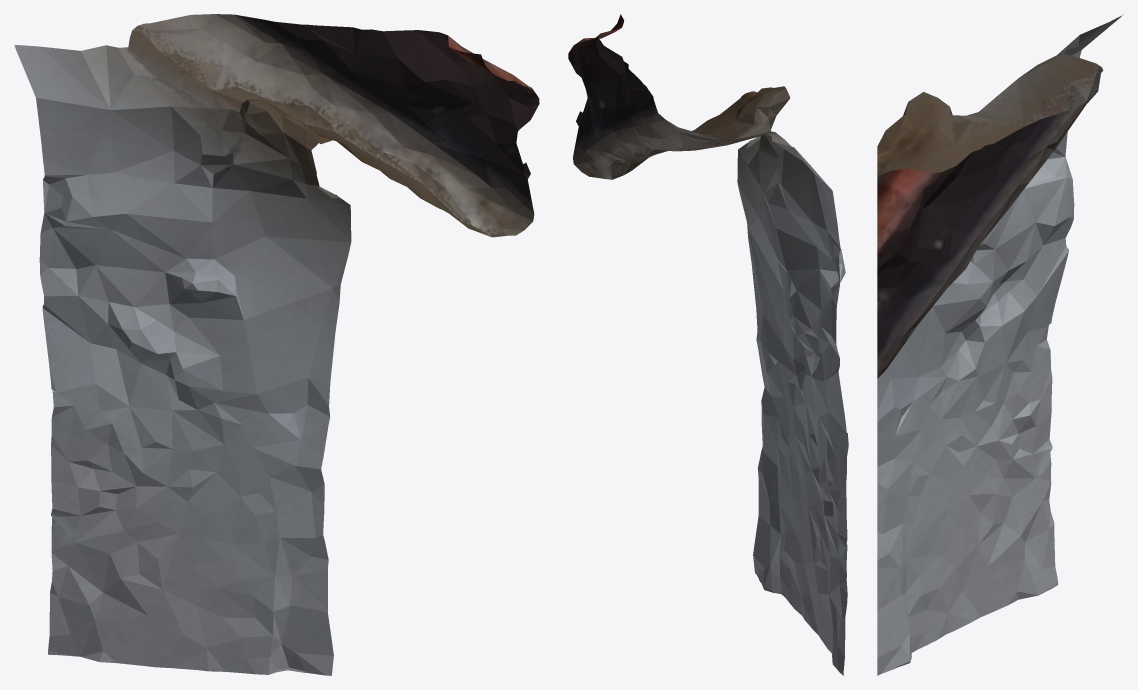
3 views of the same model, side by side, from view 1: azimuth 30°, elevation 25°; view 2: azimuth 150°, elevation 25°; view 3: azimuth 270°, elevation 25° (orthographic). The views are drawn at different scales.
Bounding box in the file's own units: 0.5974 × 0.8374 × 0.3274.
Materials: 2 (2 with a texture image).
